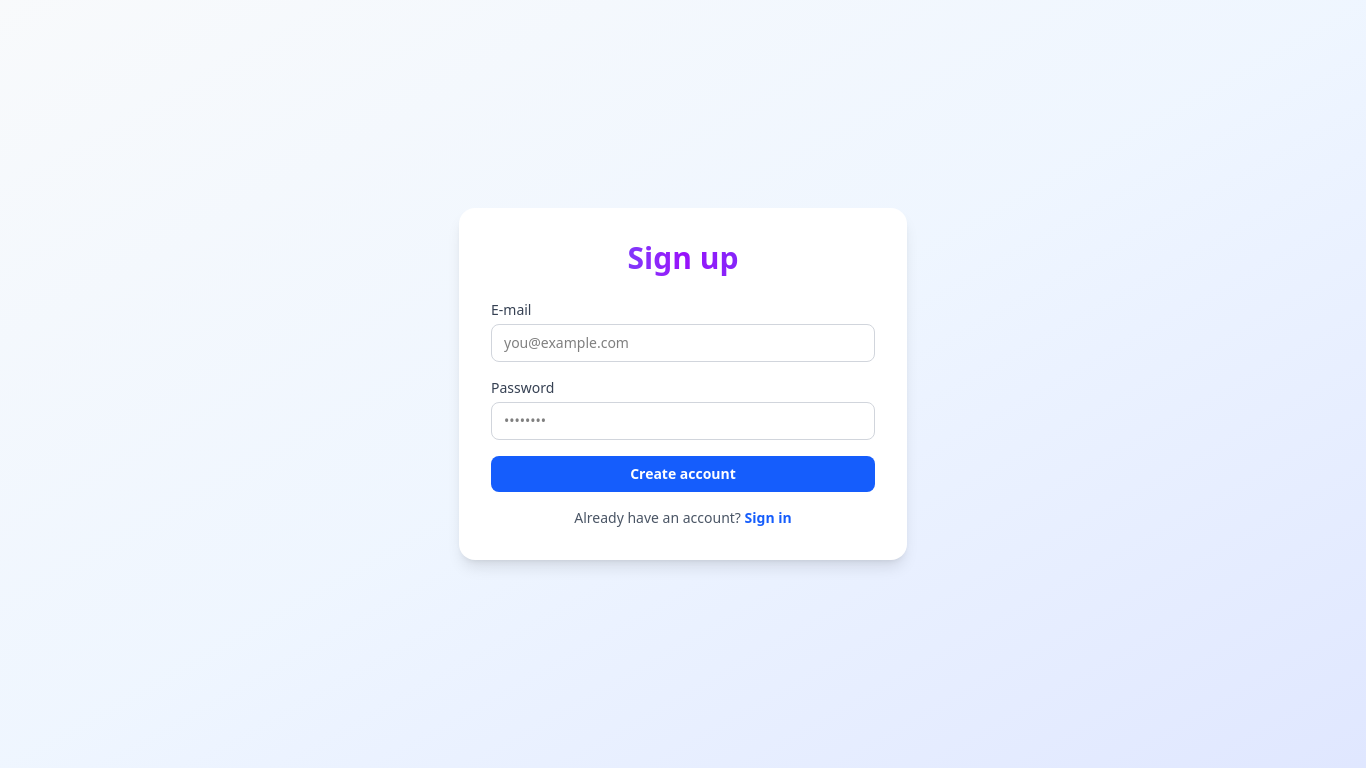
Scenario: SignUp page › shows validation error when submitting empty form
Click the button "Create account" at coordinates (683, 474), box [491,456,875,492]
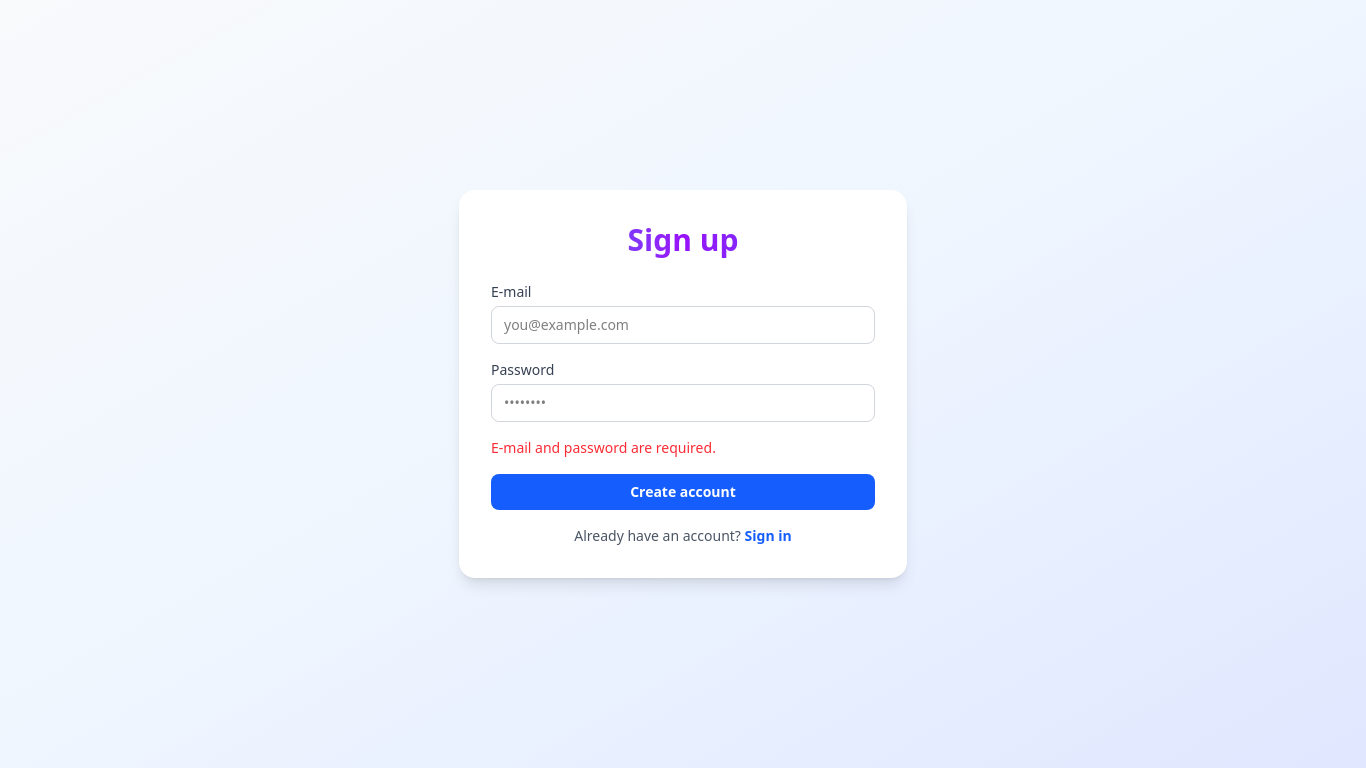
Now the text "E-mail and password are required." is shown, box [491,438,716,457]
